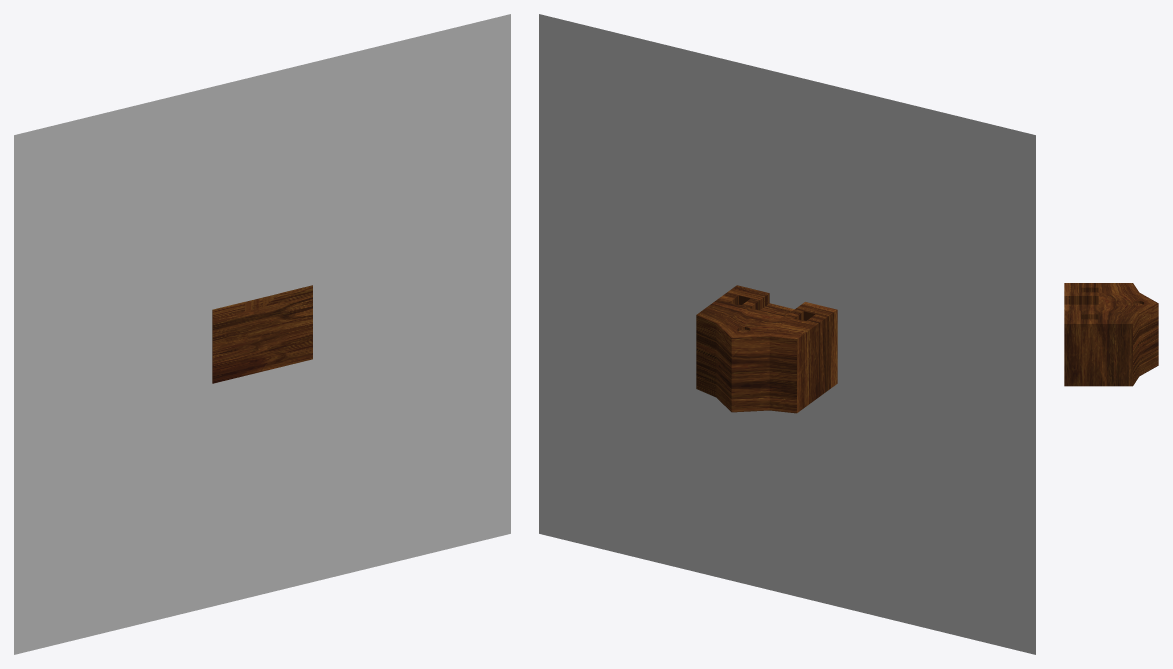
File: hogar.fbx
3 views of the same model, side by side, from view 1: azimuth 30°, elevation 25°; view 2: azimuth 150°, elevation 25°; view 3: azimuth 270°, elevation 25° (orthographic). The views are drawn at different scales.
Parts seen in each view (by area): view 1: Plane, Cube; view 2: Plane, Cube; view 3: Cube.
Boxes of the visible parts, left/top/right/bottom form: Plane: left=14, top=14, right=510, bottom=654; Cube: left=212, top=285, right=312, bottom=383; Plane: left=539, top=14, right=1035, bottom=654; Cube: left=696, top=285, right=837, bottom=413; Cube: left=1064, top=283, right=1158, bottom=386.
Size of the model in its own units: 77827 by 77827 by 15224.
